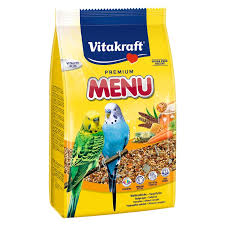budgie: (63, 110, 103, 217), (102, 100, 131, 209)
